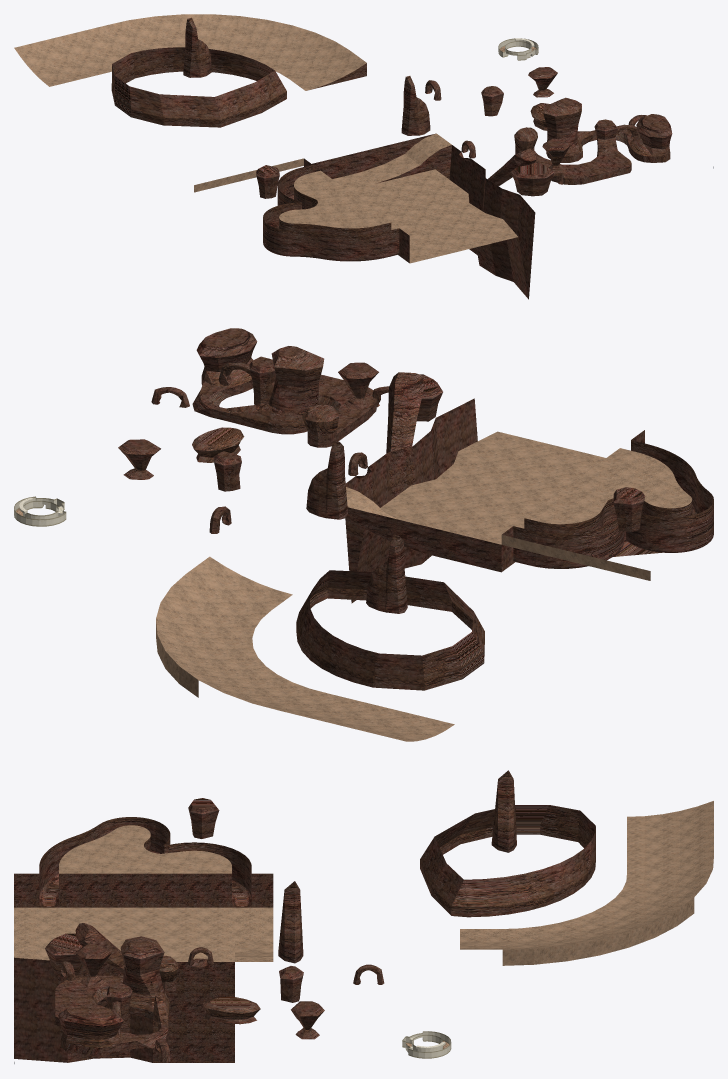
File: tatooine.dae
3 views of the same model, one above another, from view 1: azimuth 30°, elevation 25°; view 2: azimuth 150°, elevation 25°; view 3: azimuth 270°, elevation 25° (orthographic). The views are drawn at different scales.
Parts seen in each view (by area): view 1: SketchUp (×16); view 2: SketchUp (×18); view 3: SketchUp (×18).
Part boxes in pixels (left/top/right/bottom): SketchUp (×16): left=14, top=14, right=672, bottom=299; SketchUp (×18): left=14, top=328, right=713, bottom=741; SketchUp (×18): left=14, top=770, right=713, bottom=1062.
Size of the model in its own units: 11168 by 13320 by 4308.
10 materials, 3 textured.
